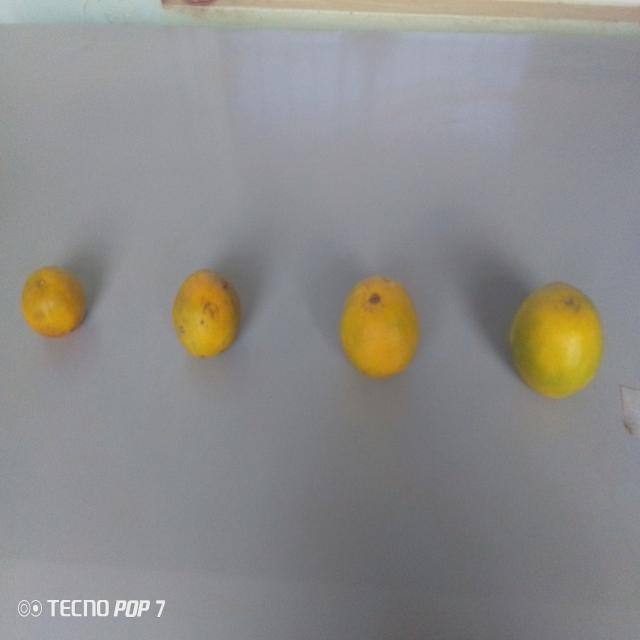Ripe orange: (503, 276, 606, 402), (339, 270, 419, 378), (172, 266, 240, 368), (15, 257, 89, 344)
